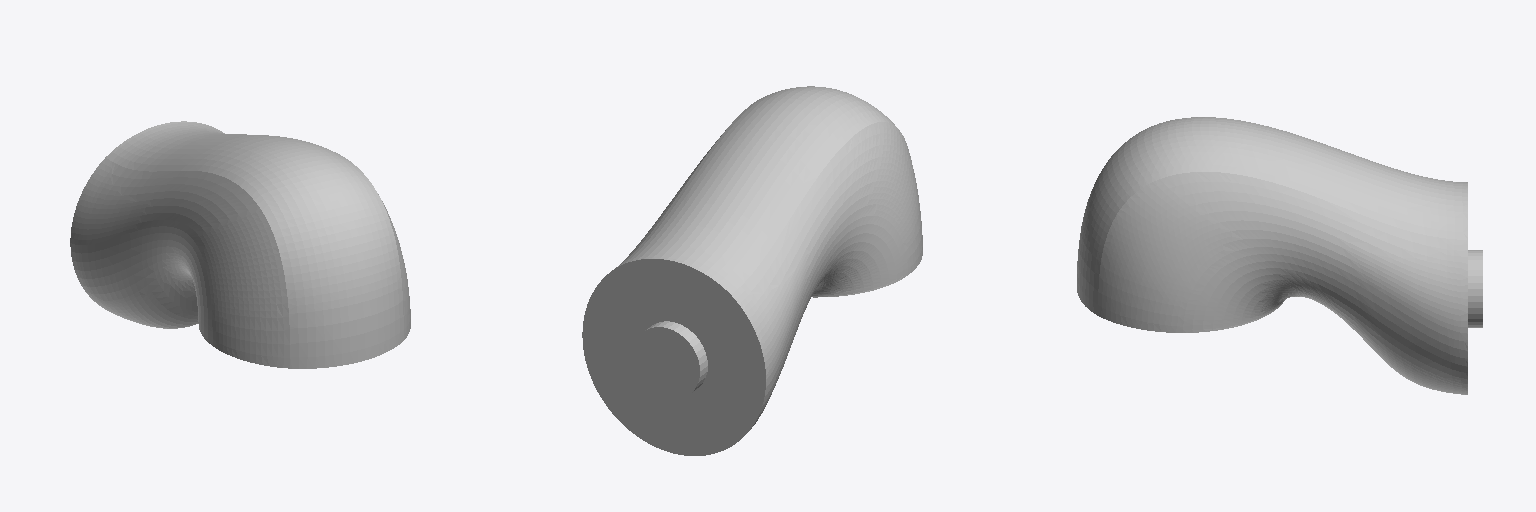
The picture shows the model from 3 angles: view 1: azimuth 30°, elevation 25°; view 2: azimuth 150°, elevation 25°; view 3: azimuth 270°, elevation 25°; orthographic projection.
Parts seen in each view (by area): view 1: /ambf/env/Link3; view 2: /ambf/env/Link3; view 3: /ambf/env/Link3.
Part boxes in pixels (left/top/right/bottom): /ambf/env/Link3: left=70, top=121, right=410, bottom=368; /ambf/env/Link3: left=582, top=86, right=922, bottom=455; /ambf/env/Link3: left=1077, top=117, right=1482, bottom=394.
Size of the model in its own units: 0.1385 by 0.186 by 0.2654.